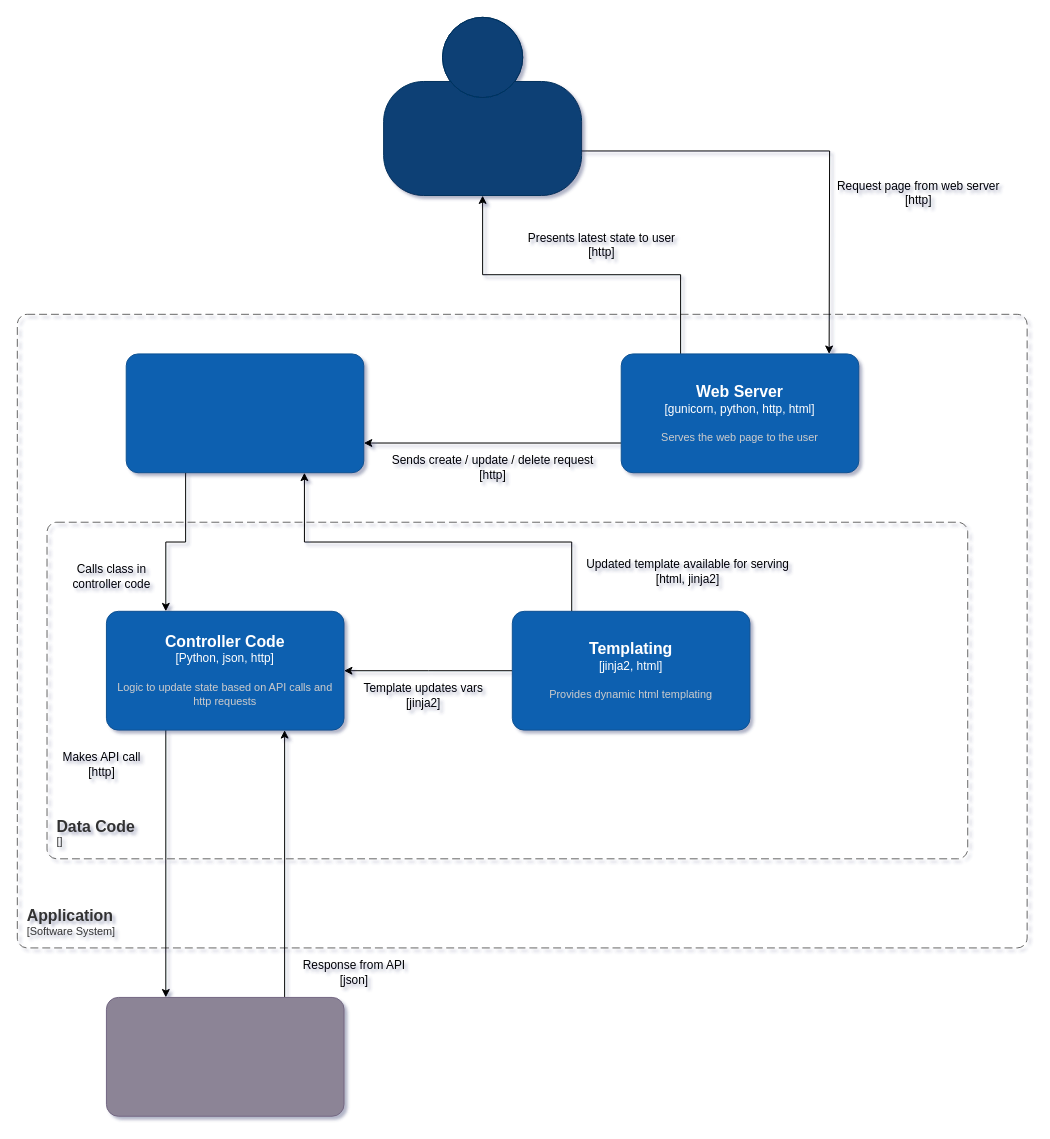
This 1050x1139 diagram has some shape labels left out. The centre of each missing label's shape, as x and y in pixels:
Trello API [http, json] External Trello API: (x=224, y=1056)
User [Person] ToDo application user: (x=482, y=106)
View Code [Python, http] Updates web page state: (x=244, y=413)
